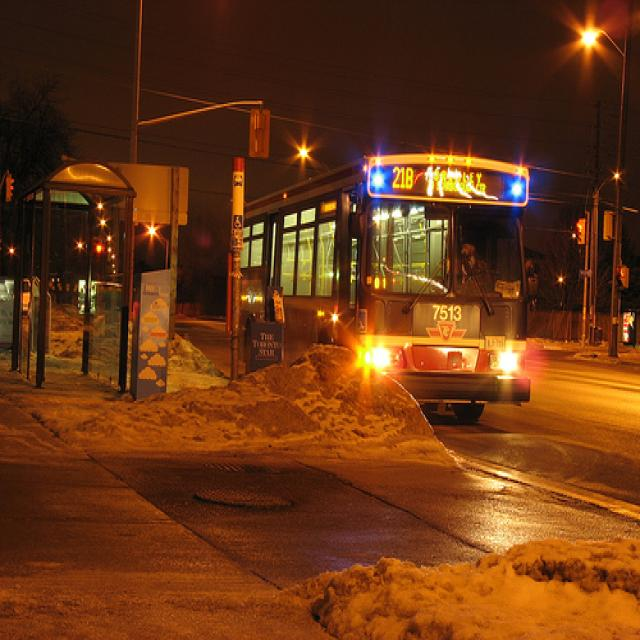Bus: (240, 133, 543, 429)
People: (451, 226, 490, 306)
